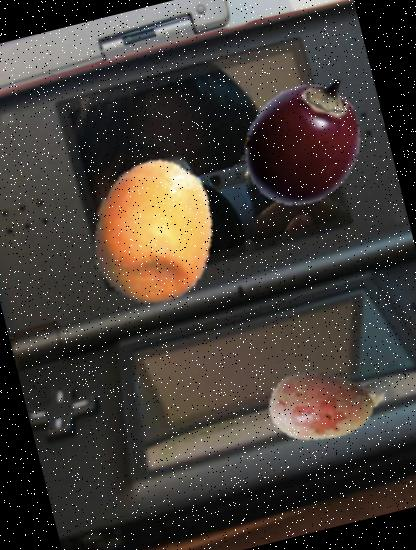Kumquats: (66, 142, 244, 320)
Pitahaya: (233, 97, 350, 213)
Potato: (254, 336, 398, 480)
Tamarillo: (222, 60, 386, 224)
